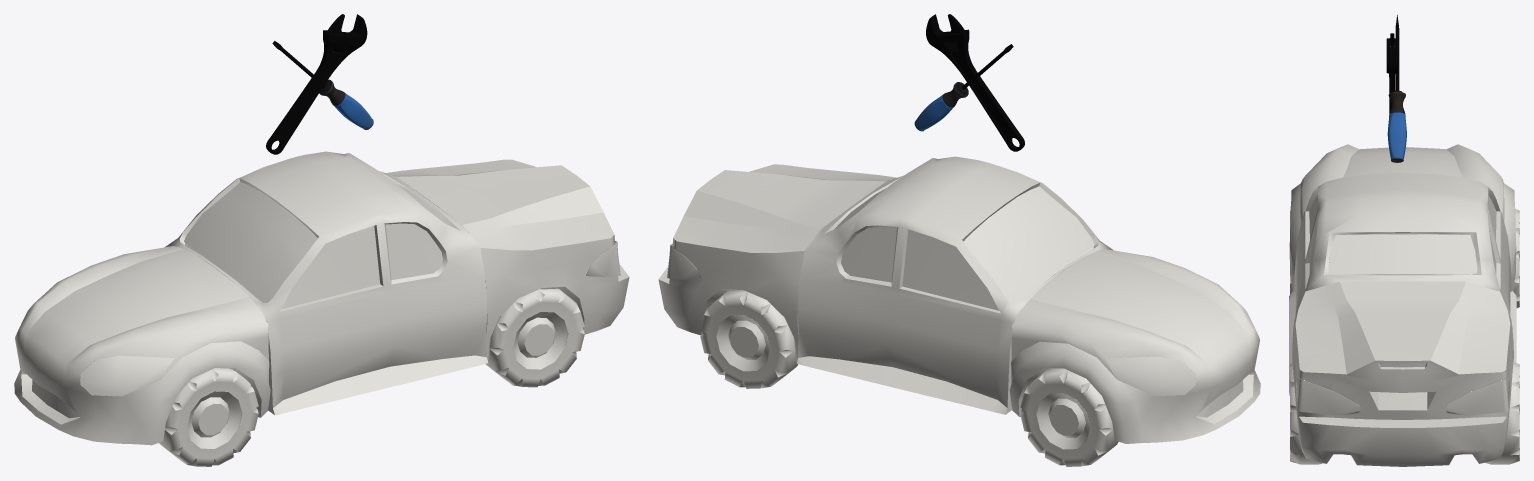
File: asset9.glb
3 renders of one model, left to right at view 1: azimuth 30°, elevation 25°; view 2: azimuth 150°, elevation 25°; view 3: azimuth 270°, elevation 25°, orthographic. The views are drawn at different scales.
Parts seen in each view (by area): view 1: node_id54, node_id40, node_id34, node_id50, node_id62, node_id66, node_id73, node_id52, node_id42, node_id64, node_id60, node_id38; view 2: node_id54, node_id40, node_id34, node_id50, node_id58, node_id48, node_id73, node_id52, node_id44, node_id46, node_id56, node_id36; view 3: node_id34, node_id54, node_id40, node_id50, node_id73, node_id36, node_id38, node_id58, node_id62, node_id48, node_id52.
Part boxes in pixels (box(x1,y1,x2,y2)): node_id54: box(165, 151, 488, 415); node_id40: box(14, 246, 270, 445); node_id34: box(386, 159, 629, 360); node_id50: box(184, 182, 449, 302); node_id62: box(485, 288, 584, 387); node_id66: box(159, 368, 258, 466); node_id73: box(266, 14, 373, 154); node_id52: box(281, 226, 380, 308); node_id42: box(80, 355, 174, 396); node_id64: box(187, 391, 241, 448); node_id60: box(513, 312, 567, 369); node_id38: box(585, 241, 620, 277); node_id54: box(796, 156, 1113, 414); node_id40: box(1009, 249, 1260, 443); node_id34: box(658, 164, 896, 361); node_id50: box(835, 186, 1094, 304); node_id58: box(700, 291, 797, 388); node_id48: box(1020, 368, 1118, 466); node_id73: box(914, 14, 1024, 151); node_id52: box(902, 229, 999, 310); node_id44: box(1105, 356, 1195, 395); node_id46: box(1036, 393, 1090, 449); node_id56: box(716, 315, 770, 371); node_id36: box(667, 244, 701, 279); node_id34: box(1291, 281, 1513, 466); node_id54: box(1289, 173, 1516, 395); node_id40: box(1289, 144, 1516, 290); node_id50: box(1328, 234, 1477, 273); node_id73: box(1386, 15, 1406, 162); node_id36: box(1444, 377, 1509, 415); node_id38: box(1296, 377, 1361, 415); node_id58: box(1485, 362, 1519, 464); node_id62: box(1290, 363, 1328, 464); node_id48: box(1513, 209, 1519, 308); node_id52: box(1309, 194, 1496, 239).
Size of the model in its own units: 0.512 by 0.3289 by 0.192.
18 materials, 18 textured.
